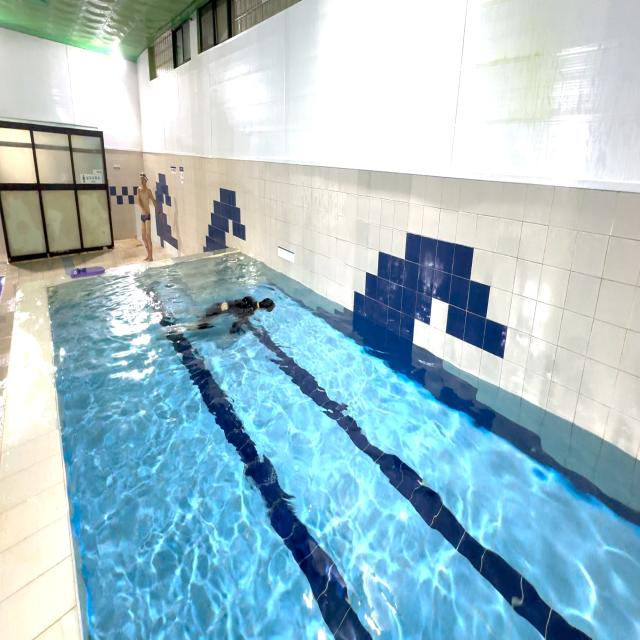Drowning: (173, 288, 277, 343)
